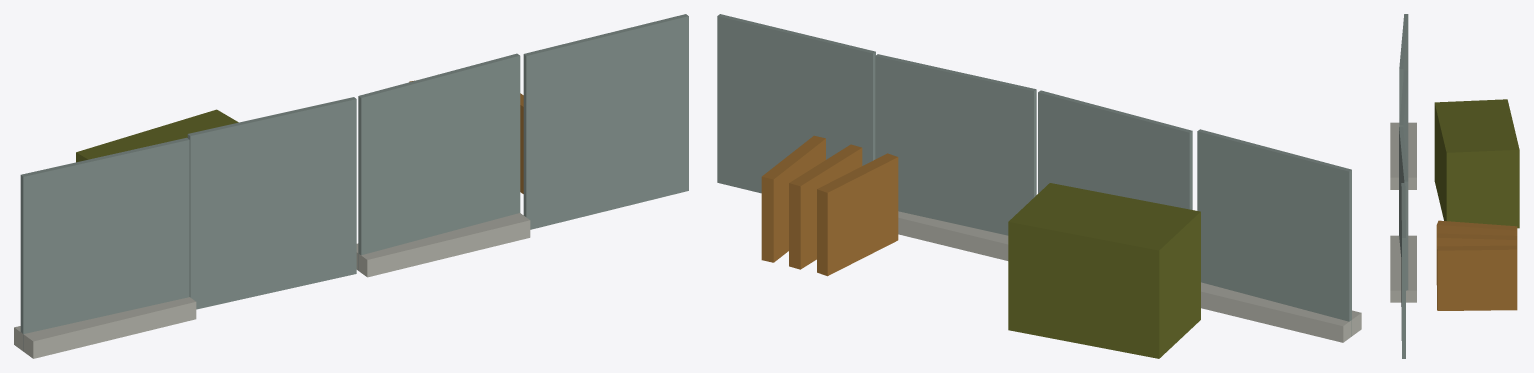
Rendered from SM_BarricadaCivil_v2_Vallas_e0_Sano_LOD1.fbx.
3 renders of one model, left to right at view 1: azimuth 30°, elevation 25°; view 2: azimuth 150°, elevation 25°; view 3: azimuth 270°, elevation 25°, orthographic. The views are drawn at different scales.
Visible parts, largest first — view 1: SM_barricada_civil_v8_LOD1; view 2: SM_barricada_civil_v8_LOD1; view 3: SM_barricada_civil_v8_LOD1.
Boxes of the visible parts, x1,y1,x2,y2 form: SM_barricada_civil_v8_LOD1: (14,14,688,358); SM_barricada_civil_v8_LOD1: (717,14,1361,358); SM_barricada_civil_v8_LOD1: (1390,14,1519,358).
Bounding box in the file's own units: 7.95 × 2 × 1.94.
